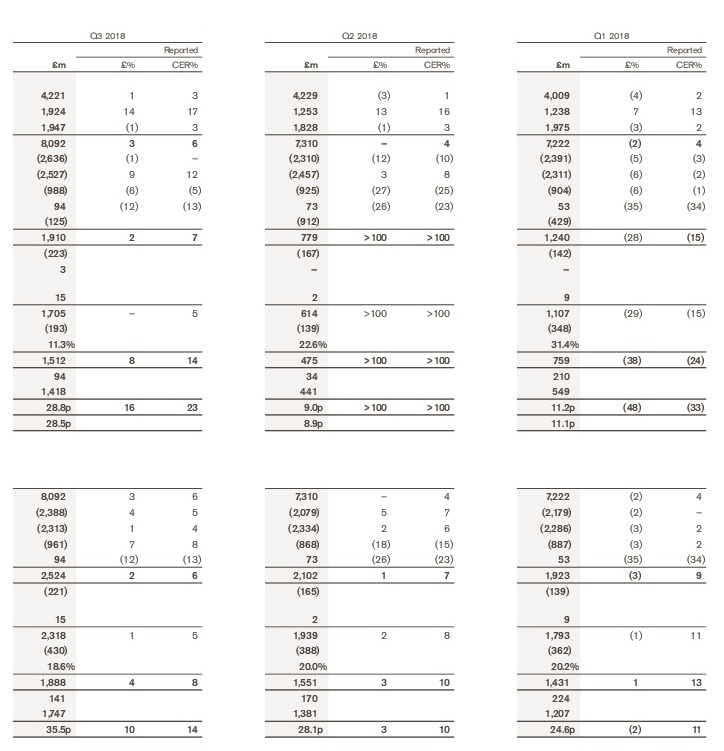table: (0, 0, 724, 751)
